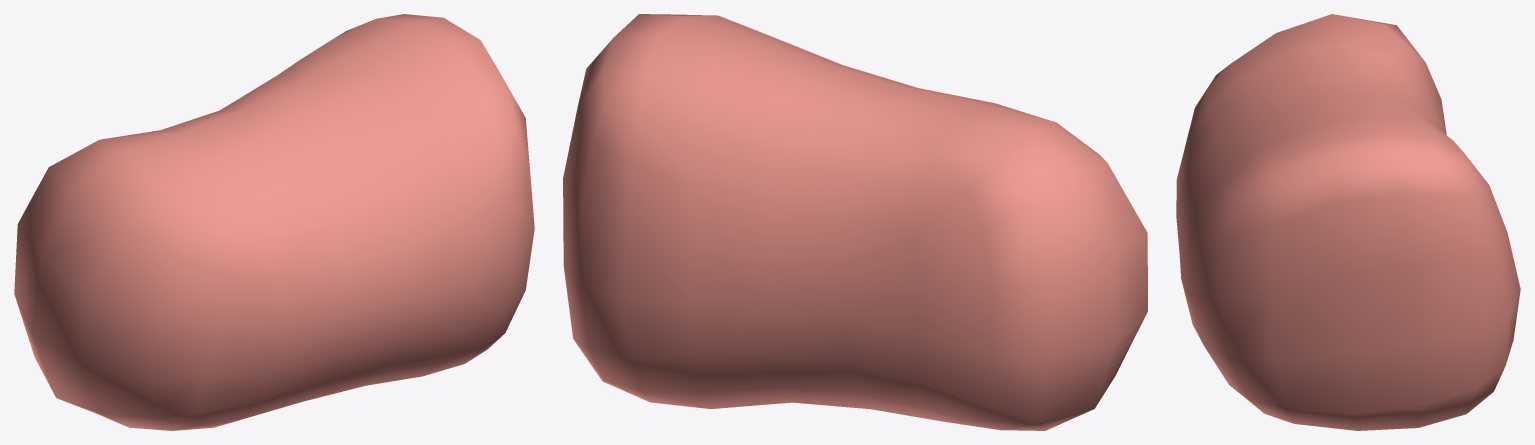
File: mixamo_humanoid_surface_rightHandMiddle1.fbx
The picture shows the model from 3 angles, left to right: view 1: azimuth 30°, elevation 25°; view 2: azimuth 150°, elevation 25°; view 3: azimuth 270°, elevation 25°; orthographic projection. The views are drawn at different scales.
Parts seen in each view (by area): view 1: surface_RightHandMiddle1; view 2: surface_RightHandMiddle1; view 3: surface_RightHandMiddle1.
Part boxes in pixels (x1,y1,x2,y2): surface_RightHandMiddle1: (14, 14, 534, 430); surface_RightHandMiddle1: (563, 14, 1147, 430); surface_RightHandMiddle1: (1176, 14, 1520, 430).
Bounding box in the file's own units: 3.57 × 2.27 × 2.37.
